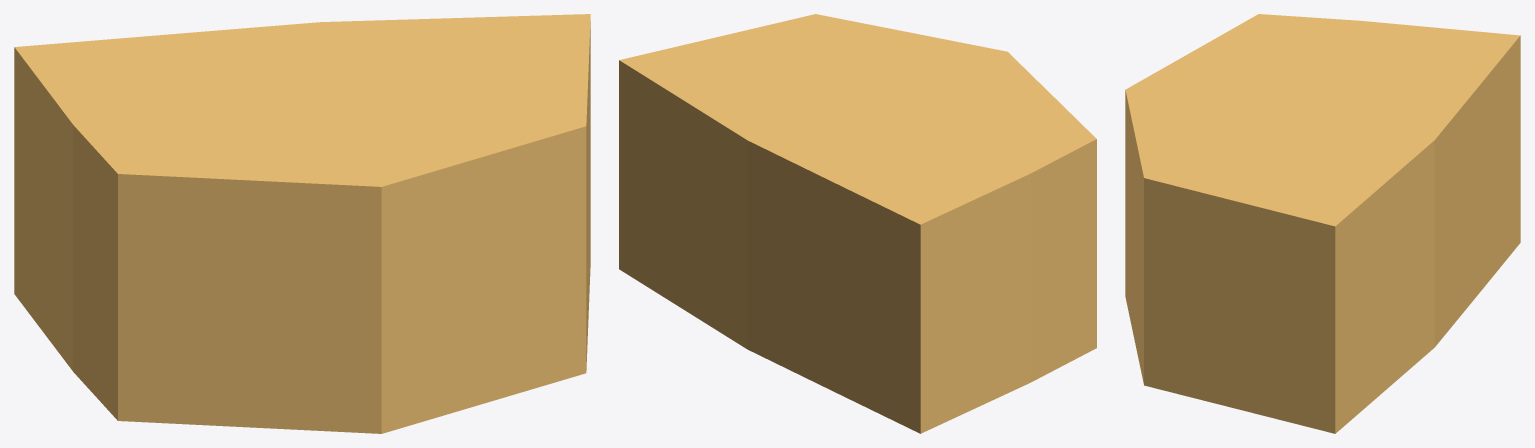
The model's file is flat_rock_13.fbx.
3 renders of one model, left to right at view 1: azimuth 30°, elevation 25°; view 2: azimuth 150°, elevation 25°; view 3: azimuth 270°, elevation 25°, orthographic. The views are drawn at different scales.
Visible parts, largest first — view 1: flat_rock_13; view 2: flat_rock_13; view 3: flat_rock_13.
Boxes of the visible parts, x1,y1,x2,y2 form: flat_rock_13: (14, 14, 590, 433); flat_rock_13: (619, 14, 1096, 433); flat_rock_13: (1125, 14, 1520, 433).
Size of the model in its own units: 51.79 by 23.58 by 40.68.
